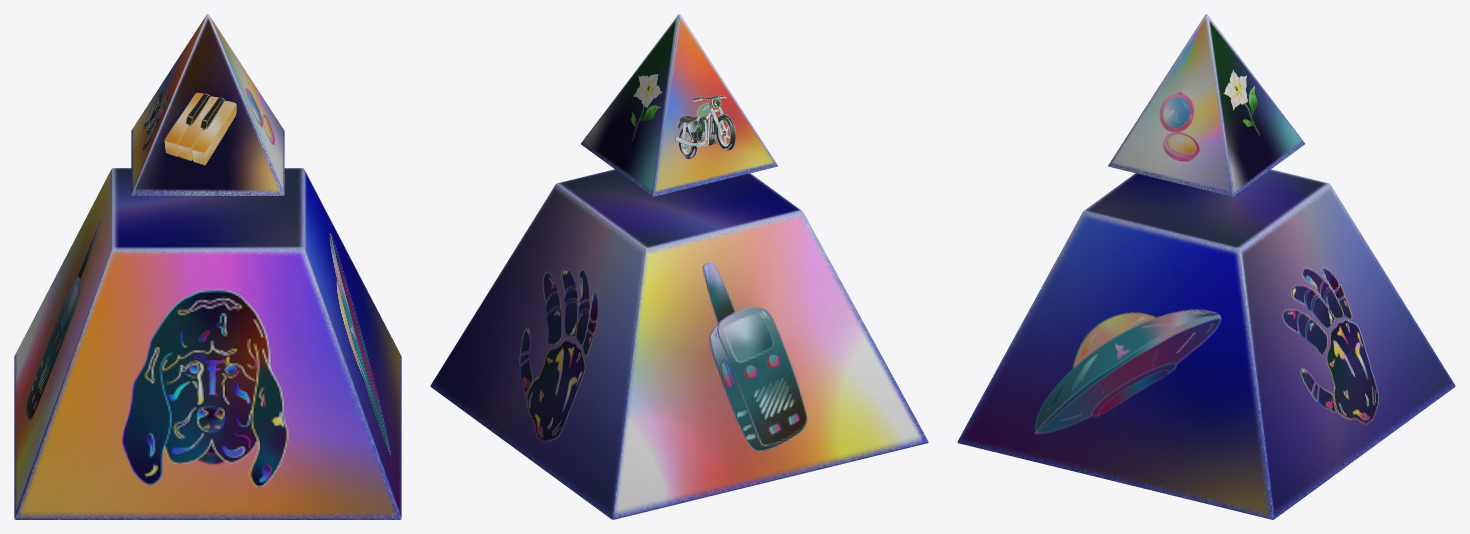
File: focus_daft-punk_texture.d8895d7d.gltf
3 views of the same model, side by side, from view 1: azimuth 30°, elevation 25°; view 2: azimuth 150°, elevation 25°; view 3: azimuth 270°, elevation 25° (orthographic). The views are drawn at different scales.
Visible parts, largest first — view 1: Pyramid_bas_1, Pyramid_haut.1, Pyramid_bas.4, Pyramid_bas.2, Pyramid_bas.5, Pyramid_haut.2, Pyramid_haut.4; view 2: Pyramid_bas.4, Pyramid_bas.3, Pyramid_haut.4, Pyramid_bas.5, Pyramid_haut.3; view 3: Pyramid_bas.2, Pyramid_bas.3, Pyramid_haut.2, Pyramid_bas.5, Pyramid_haut.3.
Boxes of the visible parts, box(x1,y1,x2,y2) form: Pyramid_bas_1: box(15, 248, 400, 519); Pyramid_haut.1: box(131, 14, 284, 195); Pyramid_bas.4: box(14, 169, 112, 518); Pyramid_bas.2: box(303, 169, 401, 518); Pyramid_bas.5: box(112, 168, 303, 248); Pyramid_haut.2: box(208, 14, 284, 195); Pyramid_haut.4: box(131, 14, 207, 195); Pyramid_bas.4: box(612, 211, 928, 519); Pyramid_bas.3: box(430, 184, 646, 519); Pyramid_haut.4: box(653, 14, 777, 196); Pyramid_bas.5: box(556, 169, 802, 519); Pyramid_haut.3: box(581, 14, 679, 196); Pyramid_bas.2: box(957, 211, 1273, 519); Pyramid_bas.3: box(1239, 184, 1455, 519); Pyramid_haut.2: box(1108, 14, 1232, 196); Pyramid_bas.5: box(1083, 169, 1329, 519); Pyramid_haut.3: box(1206, 14, 1304, 196).
Size of the model in its own units: 36.28 by 32.24 by 36.28.
2 materials, 2 textured.
